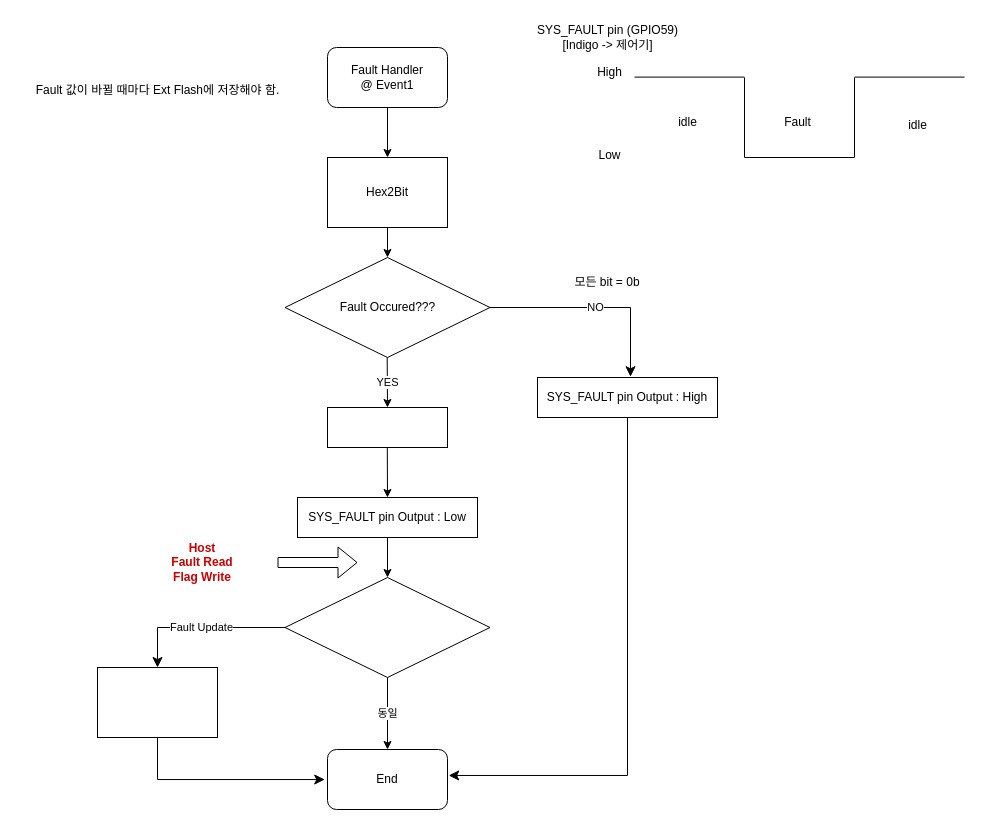
This 983x827 diagram has some shape labels left out. Each missing label, with the centre of its shape:
"Fault 변수 과거 & 현재 비교" goes at (x=387, y=627).
"RAM -> Ext Flash Fault Log" goes at (x=157, y=702).
"RAM -> Int Flash Fault" goes at (x=387, y=427).
